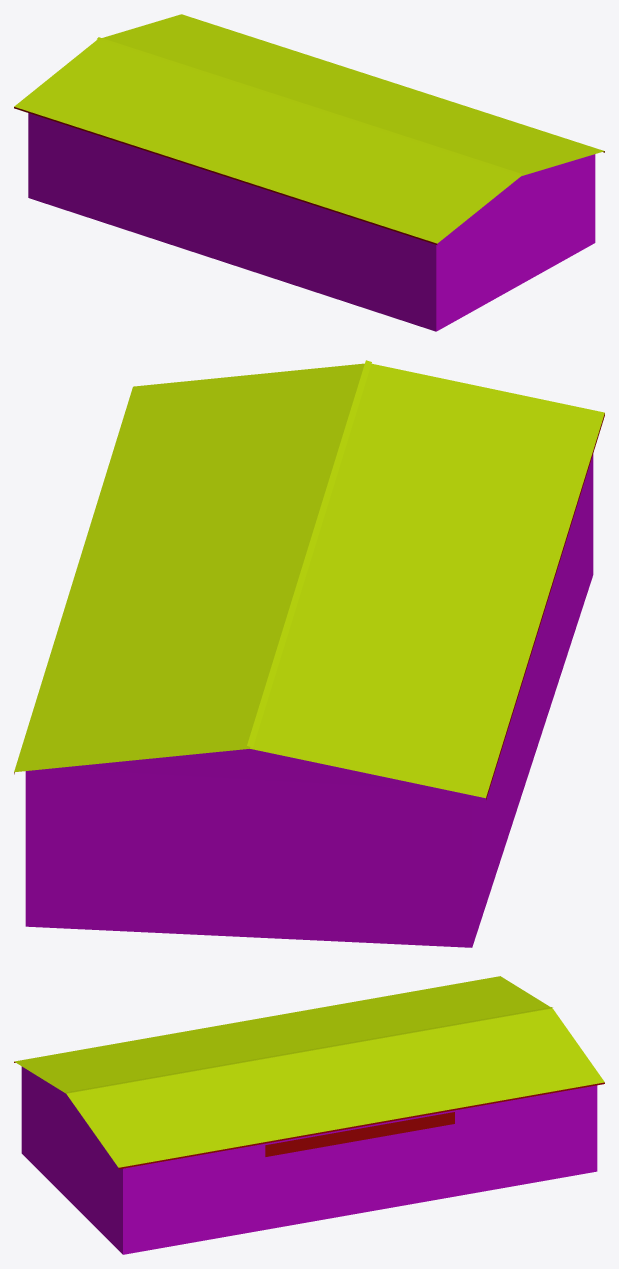
File: vzc_35.glb
3 renders of one model, top to bottom at view 1: azimuth 30°, elevation 25°; view 2: azimuth 150°, elevation 25°; view 3: azimuth 270°, elevation 25°, orthographic. The views are drawn at different scales.
Parts seen in each view (by area): view 1: vzc_35; view 2: vzc_35; view 3: vzc_35.
Boxes of the visible parts, <box> form: vzc_35: <box>14,14,604,331</box>; vzc_35: <box>14,360,604,947</box>; vzc_35: <box>14,976,604,1254</box>.
Bounding box in the file's own units: 30.86 × 8.48 × 40.2.
